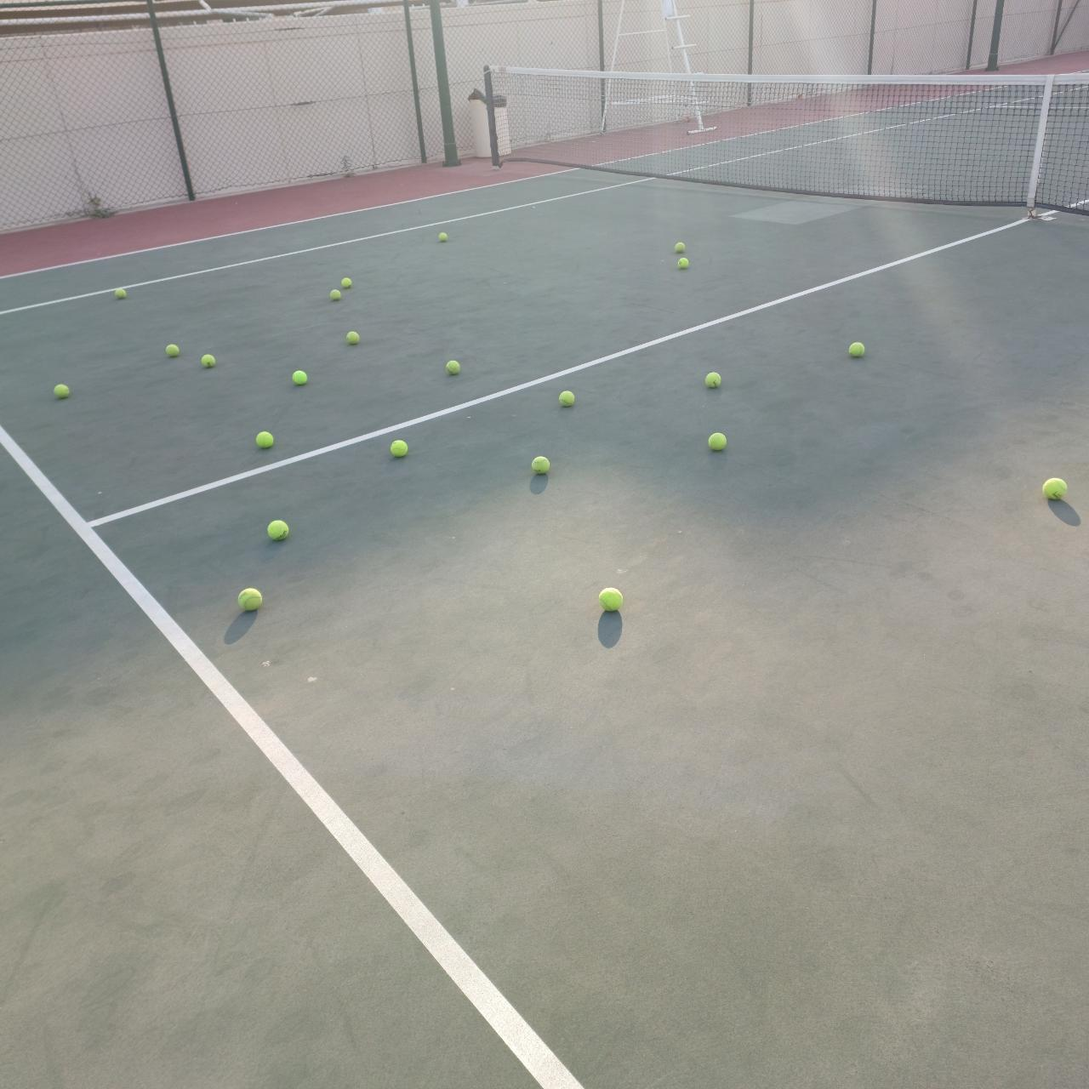tennis-ball: (596, 584, 623, 612), (236, 585, 263, 611), (1041, 475, 1067, 501), (266, 519, 288, 540), (530, 453, 550, 474), (708, 432, 727, 451), (847, 339, 865, 357), (390, 439, 408, 457), (256, 431, 273, 449), (705, 372, 722, 389), (558, 391, 575, 408), (445, 360, 460, 375), (53, 383, 68, 398), (292, 370, 307, 385), (201, 354, 215, 368), (346, 331, 360, 345), (166, 344, 180, 356), (115, 288, 127, 299), (677, 258, 689, 269), (341, 277, 352, 288), (330, 290, 341, 300), (675, 242, 685, 253), (438, 232, 448, 242)
